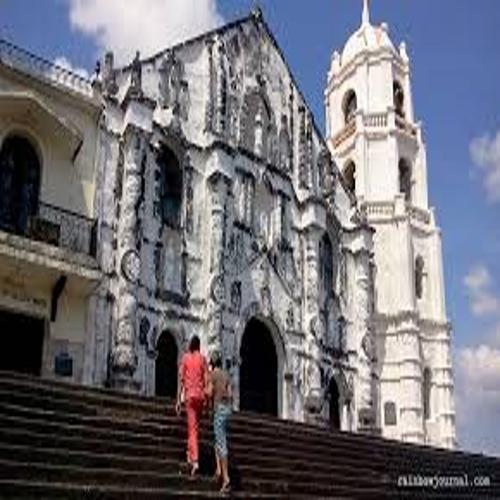Daraga Church: (82, 1, 464, 456)
